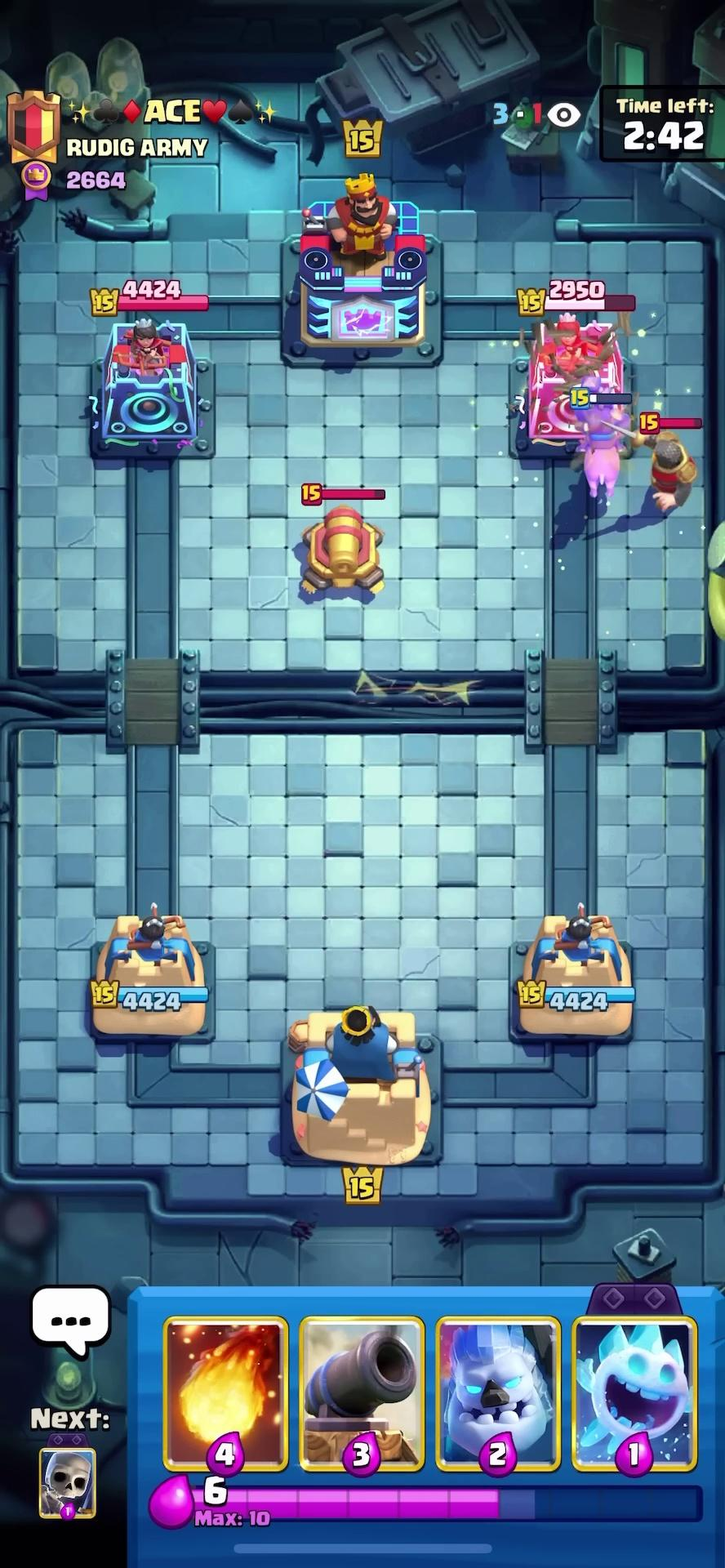hog_rider: (555, 365, 645, 506)
